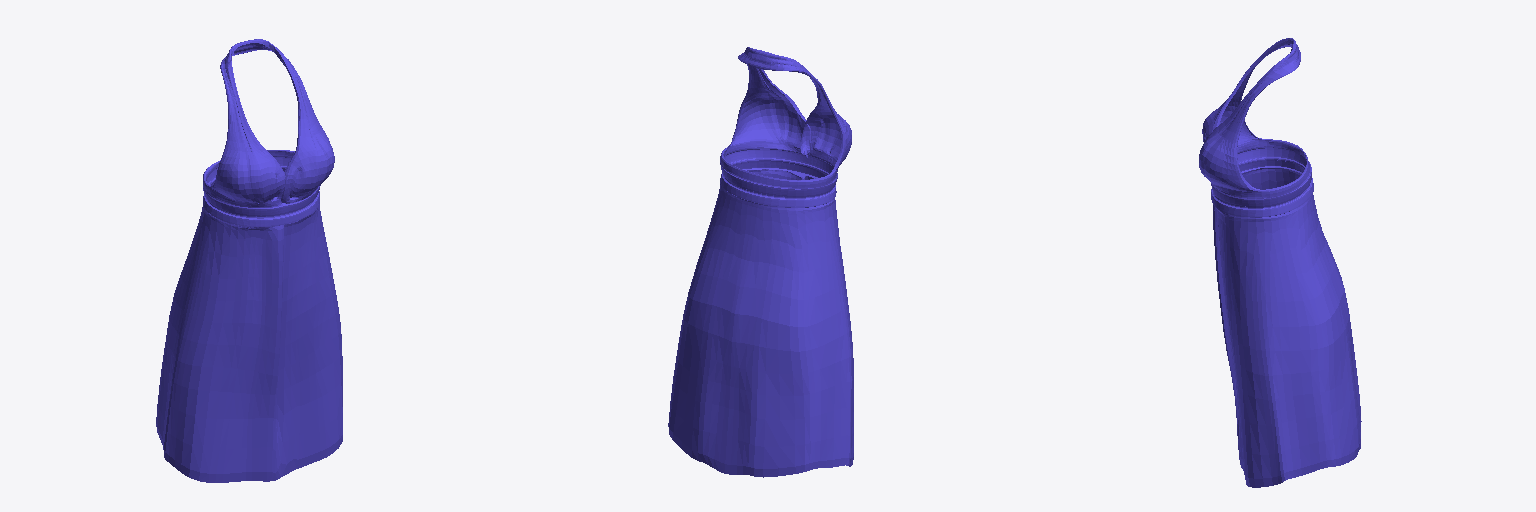
File: changqun5.obj
3 renders of one model, left to right at view 1: azimuth 30°, elevation 25°; view 2: azimuth 150°, elevation 25°; view 3: azimuth 270°, elevation 25°, orthographic.
Parts seen in each view (by area): view 1: changqun; view 2: changqun; view 3: changqun.
Boxes of the visible parts, x1,y1,x2,y2 form: changqun: [156, 39, 342, 482]; changqun: [668, 47, 853, 477]; changqun: [1199, 38, 1361, 487].
Size of the model in its own units: 2.76 by 6.4 by 2.24.